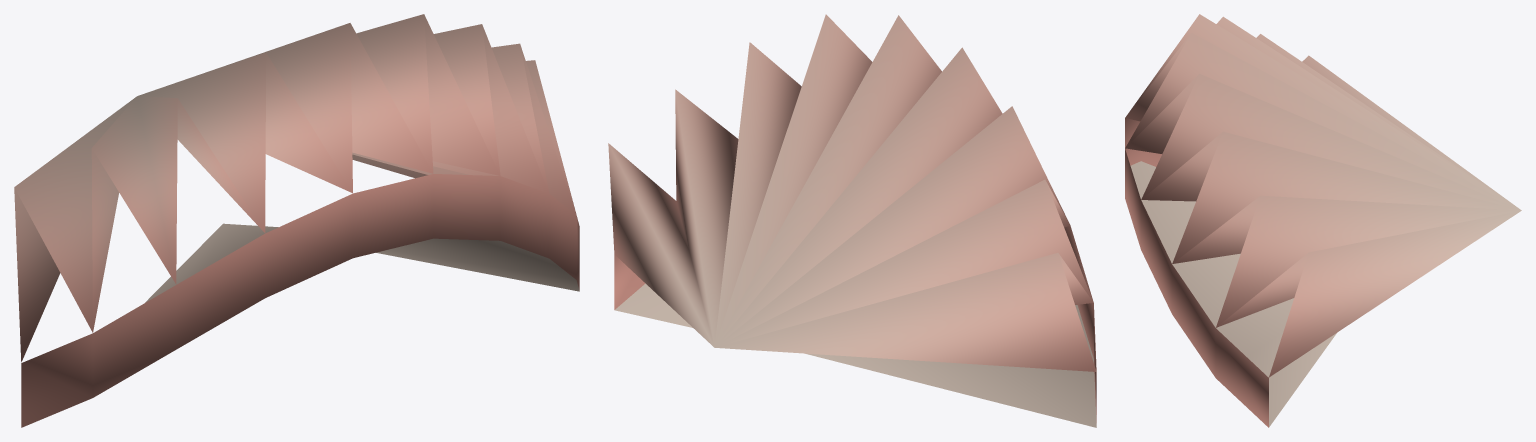
The model's file is shell.glb.
3 views of the same model, side by side, from view 1: azimuth 30°, elevation 25°; view 2: azimuth 150°, elevation 25°; view 3: azimuth 270°, elevation 25° (orthographic). The views are drawn at different scales.
Visible parts, largest first — view 1: shell; view 2: shell; view 3: shell.
Boxes of the visible parts, x1=… form: shell: x1=14, y1=14, x2=579, y2=427; shell: x1=608, y1=14, x2=1096, y2=427; shell: x1=1125, y1=14, x2=1521, y2=427.
Bounding box in the file's own units: 0.2255 × 0.1442 × 0.1791.
